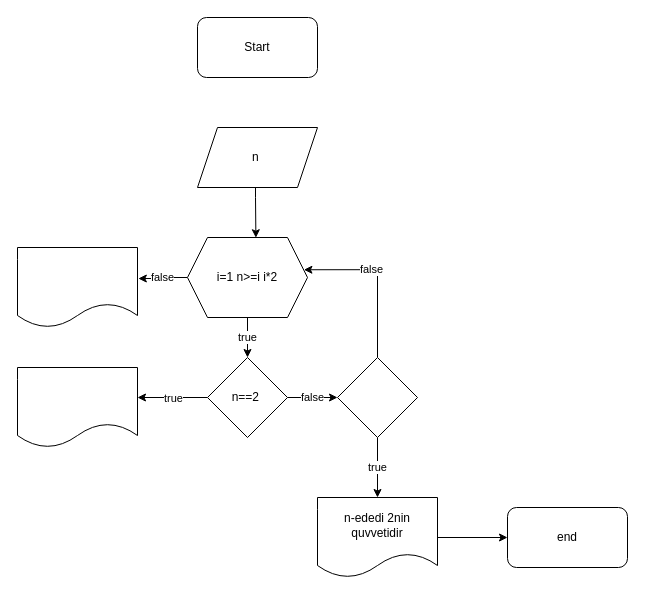
The diagram is 645 pixels wide and 595 high, and some of its shapes have lost their labels. Each missing label, with the centre of its shape:
N ededi 2 -nin quvveti deyil: point (77, 407)
N ededi 2-nin quvveti deyil: point (77, 287)
n==i: point (377, 397)
